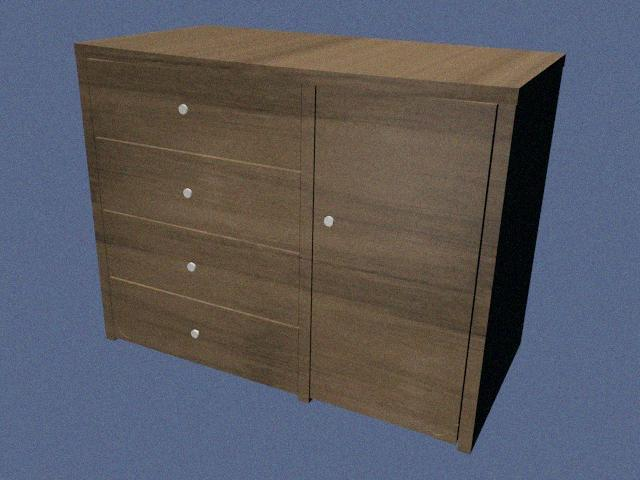cabinet_door: (313, 95, 477, 422), (90, 70, 302, 156), (97, 155, 300, 232), (104, 232, 299, 302), (111, 302, 298, 366)
handle: (169, 98, 196, 122), (319, 209, 342, 232), (184, 322, 207, 344), (176, 184, 197, 205), (182, 256, 200, 279)
